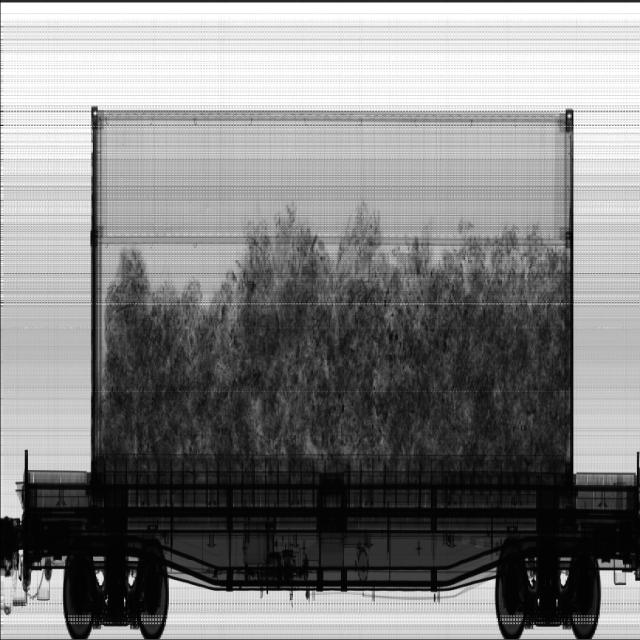textiles: (98, 198, 568, 465)
